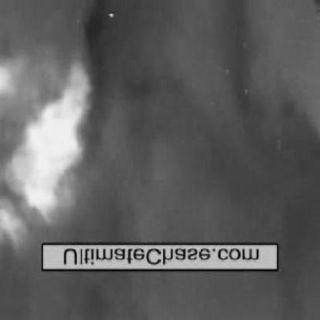Fire: (1, 60, 101, 242)
Smoke: (111, 16, 313, 230), (32, 277, 306, 313)
